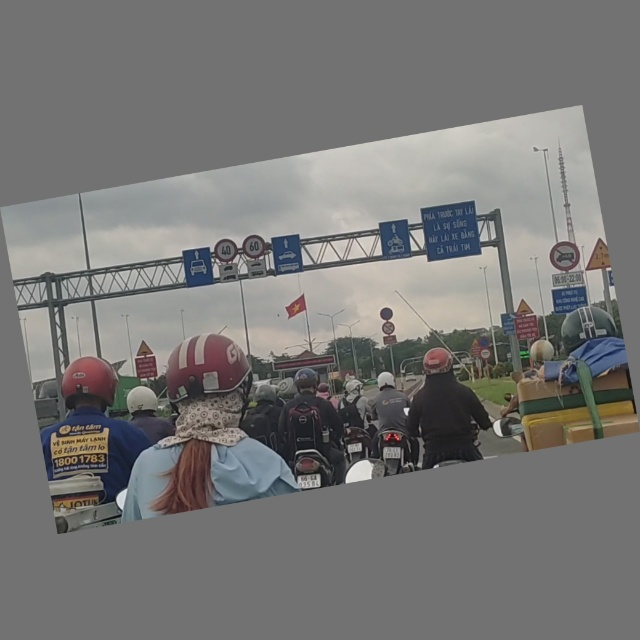Camera: (500, 313, 518, 337)
P.106a*Xe tai: (547, 239, 583, 275)
P.111: (381, 322, 396, 337)
P.127*40: (212, 238, 239, 265)
P.127*60: (241, 234, 268, 261)
P.129: (478, 348, 492, 361)
P.130: (379, 307, 394, 322)
P.131a: (478, 337, 491, 350)
W.221b: (132, 339, 156, 359), (514, 298, 535, 318), (470, 338, 479, 349)
W.239b*: (581, 238, 611, 274)
